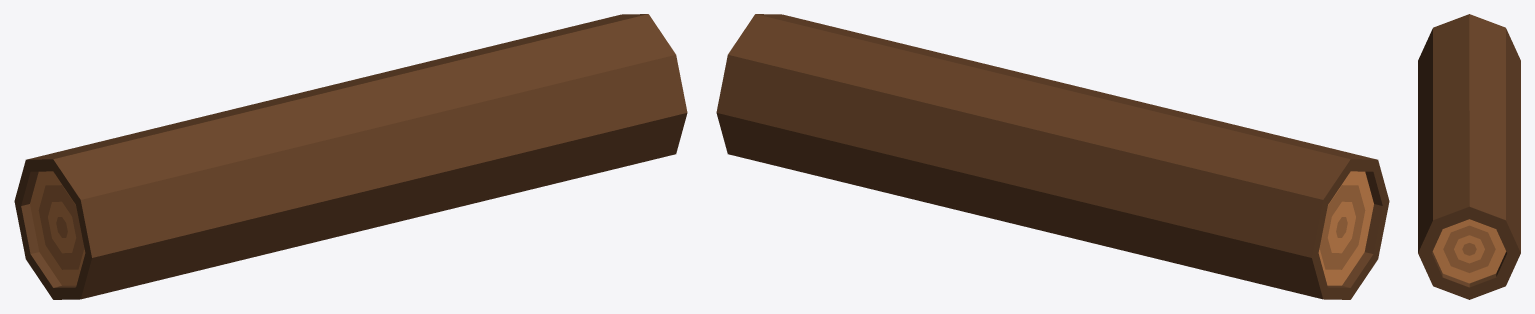
Rendered from Log4.glb.
3 views of the same model, side by side, from view 1: azimuth 30°, elevation 25°; view 2: azimuth 150°, elevation 25°; view 3: azimuth 270°, elevation 25° (orthographic). The views are drawn at different scales.
Visible parts, largest first — view 1: Log 3.001; view 2: Log 3.001; view 3: Log 3.001.
Boxes of the visible parts, box(x1,y1,x2,y2) form: Log 3.001: box(14, 14, 687, 299); Log 3.001: box(716, 14, 1389, 299); Log 3.001: box(1418, 14, 1520, 299).
Size of the model in its own units: 29.54 by 6.67 by 6.67.
